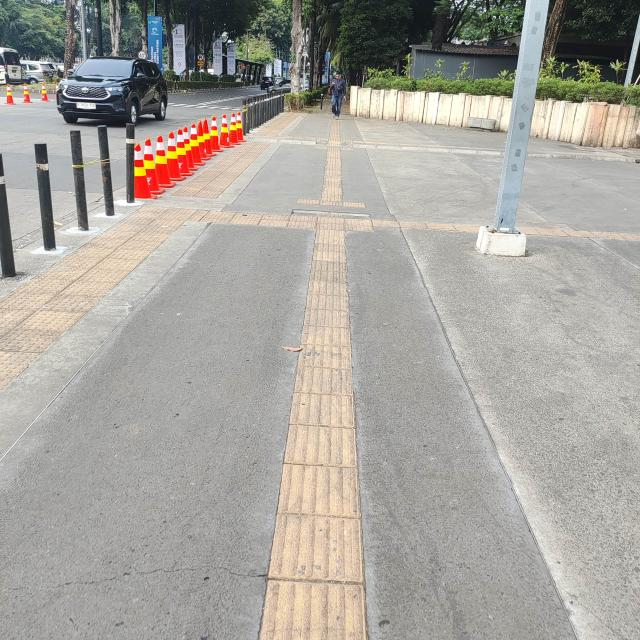lurus: (280, 151, 369, 640)
